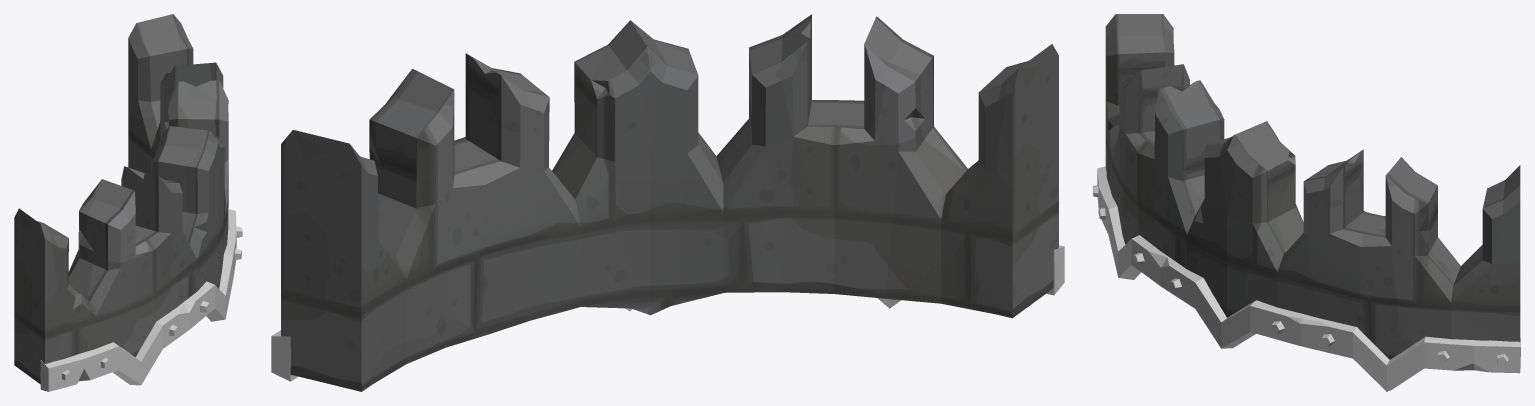
File: SM_Bld_Battlements_Curve_02.fbx
The picture shows the model from 3 angles, left to right: view 1: azimuth 30°, elevation 25°; view 2: azimuth 150°, elevation 25°; view 3: azimuth 270°, elevation 25°; orthographic projection. The views are drawn at different scales.
Visible parts, largest first — view 1: SM_Bld_Battlements_Curve_02; view 2: SM_Bld_Battlements_Curve_02; view 3: SM_Bld_Battlements_Curve_02.
Part boxes in pixels (left/top/right/bottom): SM_Bld_Battlements_Curve_02: left=14, top=14, right=242, bottom=391; SM_Bld_Battlements_Curve_02: left=271, top=14, right=1064, bottom=391; SM_Bld_Battlements_Curve_02: left=1093, top=14, right=1520, bottom=391.
Bounding box in the file's own units: 332 × 182 × 331.
